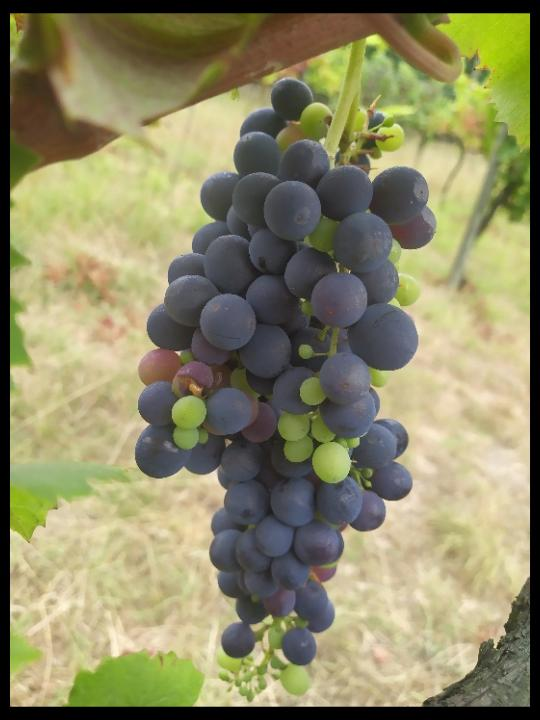grape: (134, 76, 438, 705)
